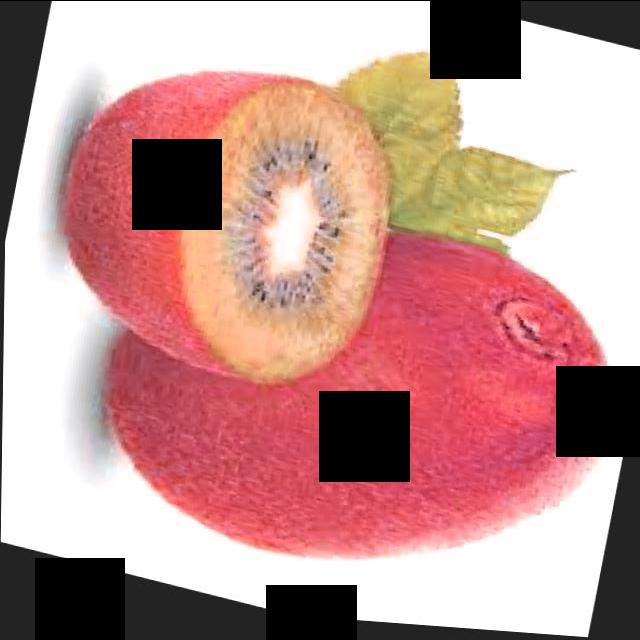kiwi: (82, 170, 640, 639)
